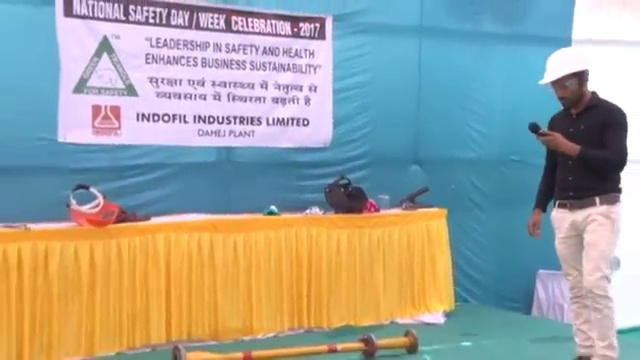helmet: (535, 46, 595, 86)
helmet_on: (535, 46, 599, 112)
person: (526, 45, 629, 360)
